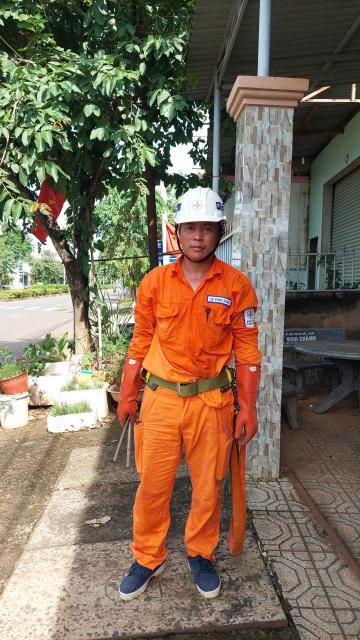gloves: (229, 360, 271, 454), (112, 338, 150, 424)
harness: (134, 356, 249, 408)
helmet: (160, 185, 239, 232)
shoes: (176, 548, 243, 605), (111, 551, 173, 602)
